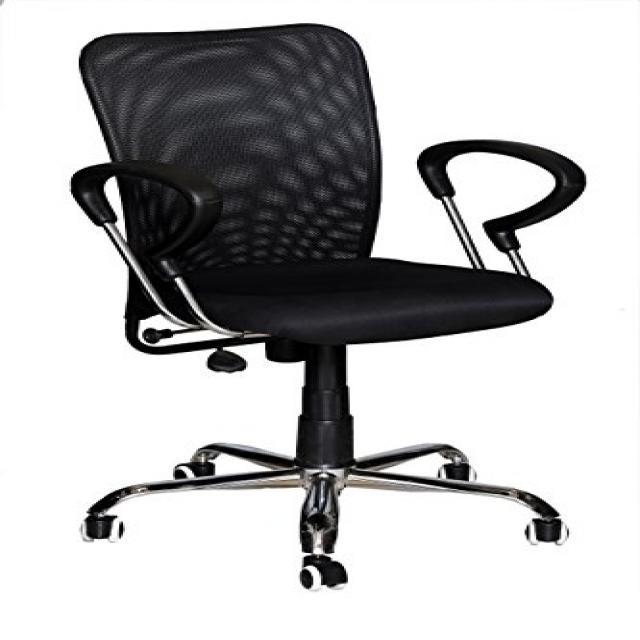chair: (74, 22, 578, 596)
